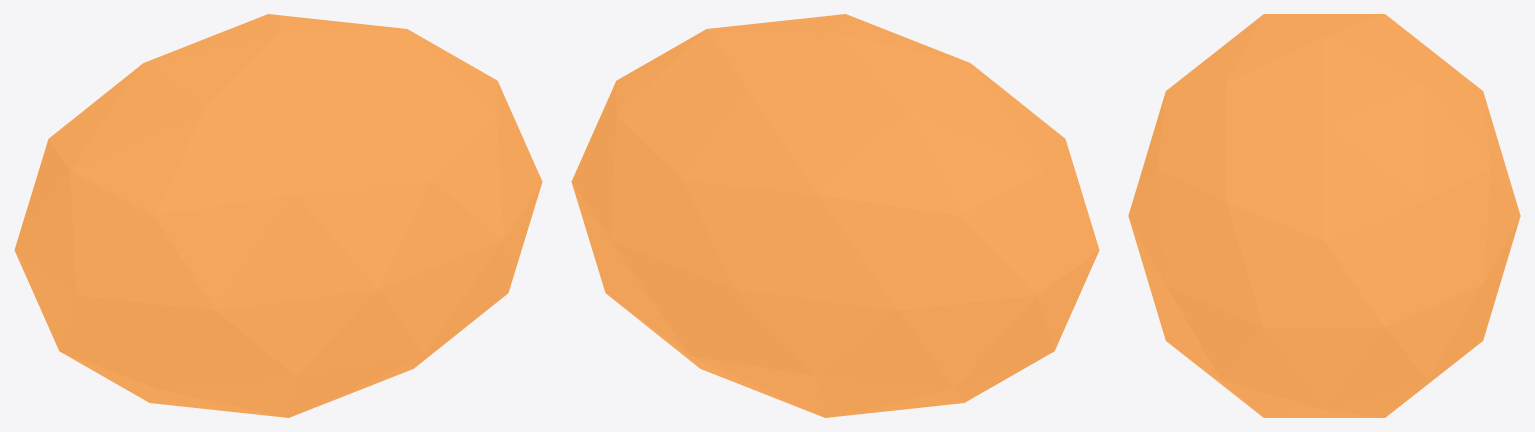
The model's file is fragment_6.glb.
3 views of the same model, side by side, from view 1: azimuth 30°, elevation 25°; view 2: azimuth 150°, elevation 25°; view 3: azimuth 270°, elevation 25° (orthographic). The views are drawn at different scales.
Visible parts, largest first — view 1: fragment_6; view 2: fragment_6; view 3: fragment_6.
Part boxes in pixels (<box>): fragment_6: <box>14,14,542,417</box>; fragment_6: <box>571,14,1099,417</box>; fragment_6: <box>1128,14,1520,417</box>.
Bounding box in the file's own units: 0.5433 × 0.4075 × 0.4048.
